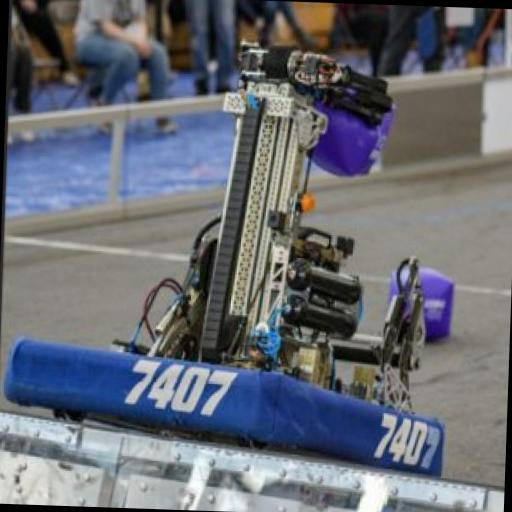robot: (0, 28, 481, 494)
